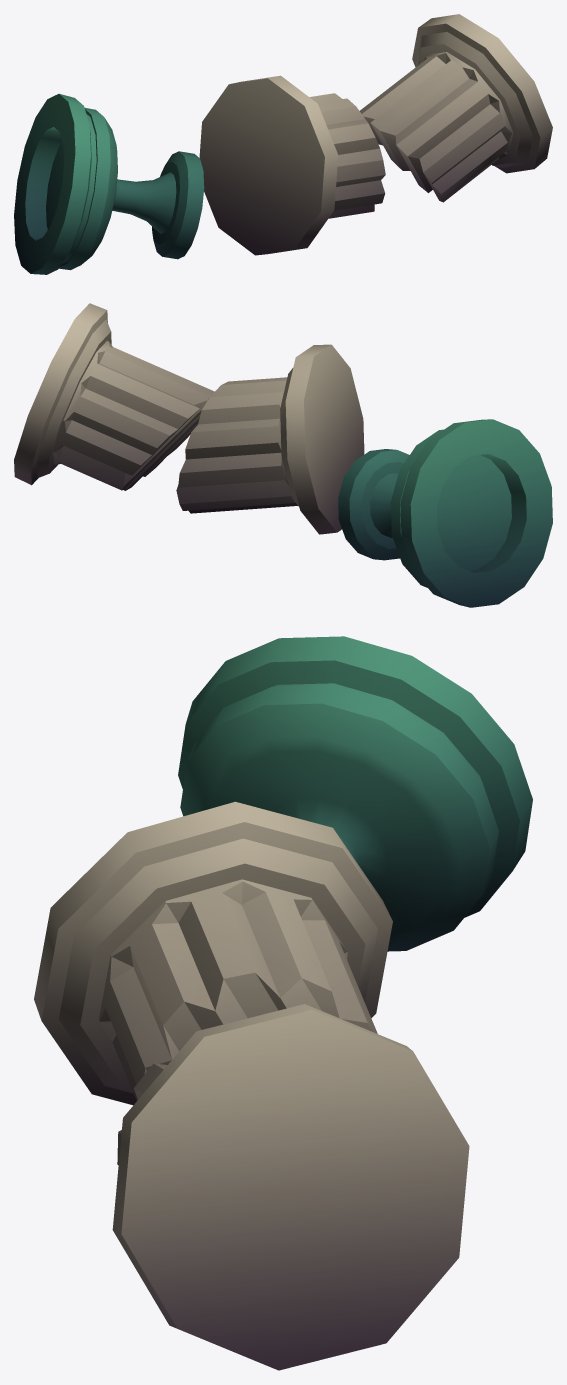
File: Obstaculo_Columna_Brasa_Rota.fbx
The picture shows the model from 3 angles, top to bottom: view 1: azimuth 30°, elevation 25°; view 2: azimuth 150°, elevation 25°; view 3: azimuth 270°, elevation 25°; orthographic projection. The views are drawn at different scales.
Visible parts, largest first — view 1: ColumnaRota_002, ColumnaRota_001, ColumnaRota_Brasa; view 2: ColumnaRota_Brasa, ColumnaRota_002, ColumnaRota_001; view 3: ColumnaRota_001, ColumnaRota_002, ColumnaRota_Brasa.
Boxes of the visible parts, <box> form: ColumnaRota_002: <box>199,75,385,255</box>; ColumnaRota_001: <box>360,14,552,202</box>; ColumnaRota_Brasa: <box>14,93,204,274</box>; ColumnaRota_Brasa: <box>338,419,552,607</box>; ColumnaRota_002: <box>176,344,364,534</box>; ColumnaRota_001: <box>14,303,214,490</box>; ColumnaRota_001: <box>112,1004,469,1370</box>; ColumnaRota_002: <box>34,801,392,1105</box>; ColumnaRota_Brasa: <box>178,636,532,951</box>.
Size of the model in its own units: 574 by 185 by 254.
